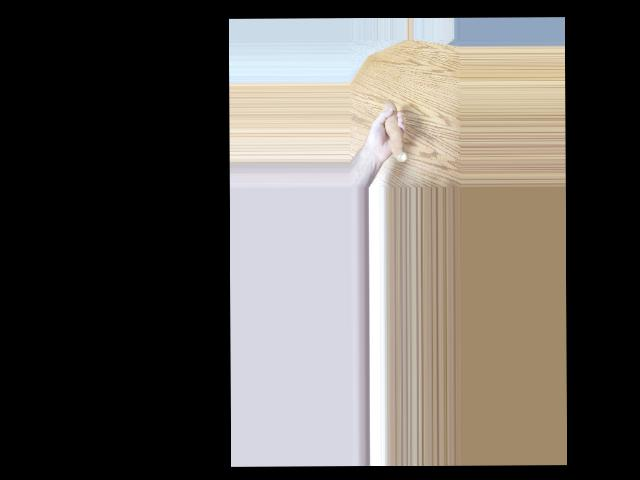sweet_potato: (379, 106, 404, 167)
